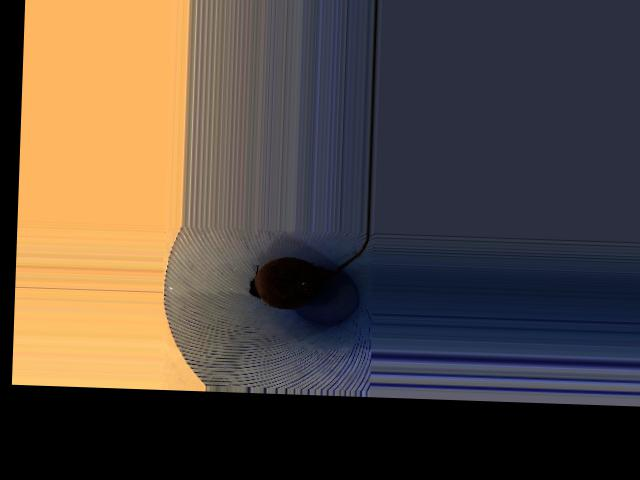beet: (248, 227, 368, 311)
